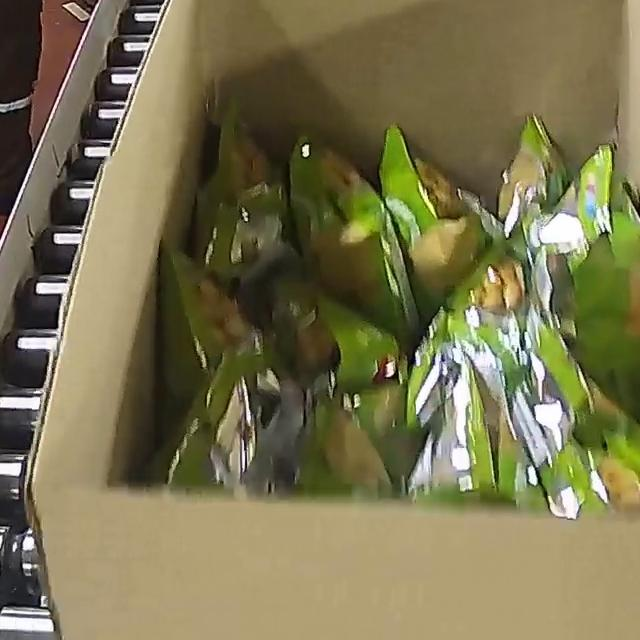yogurt: (146, 95, 640, 518)
